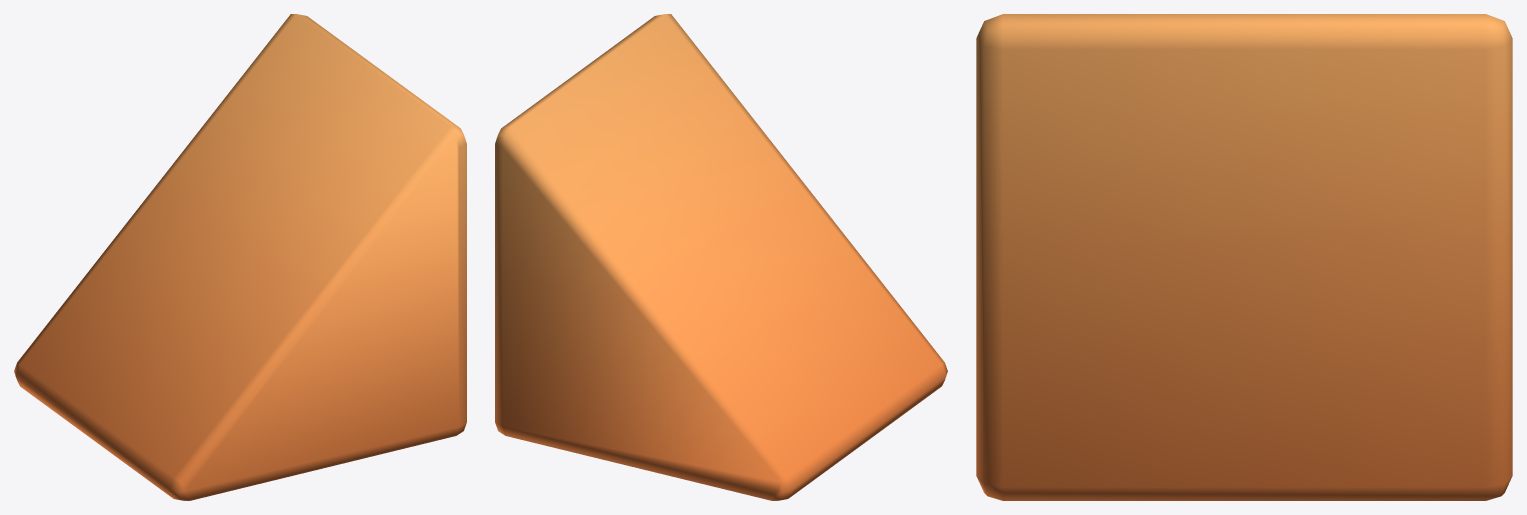
File: 3D_Tile_Ground_Slope_02.fbx
3 views of the same model, side by side, from view 1: azimuth 30°, elevation 25°; view 2: azimuth 150°, elevation 25°; view 3: azimuth 270°, elevation 25° (orthographic). The views are drawn at different scales.
Parts seen in each view (by area): view 1: 3D_Tile_Ground_Slope_02; view 2: 3D_Tile_Ground_Slope_02; view 3: 3D_Tile_Ground_Slope_02.
Part boxes in pixels (left/top/right/bottom): 3D_Tile_Ground_Slope_02: left=14, top=14, right=466, bottom=500; 3D_Tile_Ground_Slope_02: left=495, top=14, right=947, bottom=500; 3D_Tile_Ground_Slope_02: left=976, top=14, right=1512, bottom=500.
Bounding box in the file's own units: 200 × 200 × 200.
